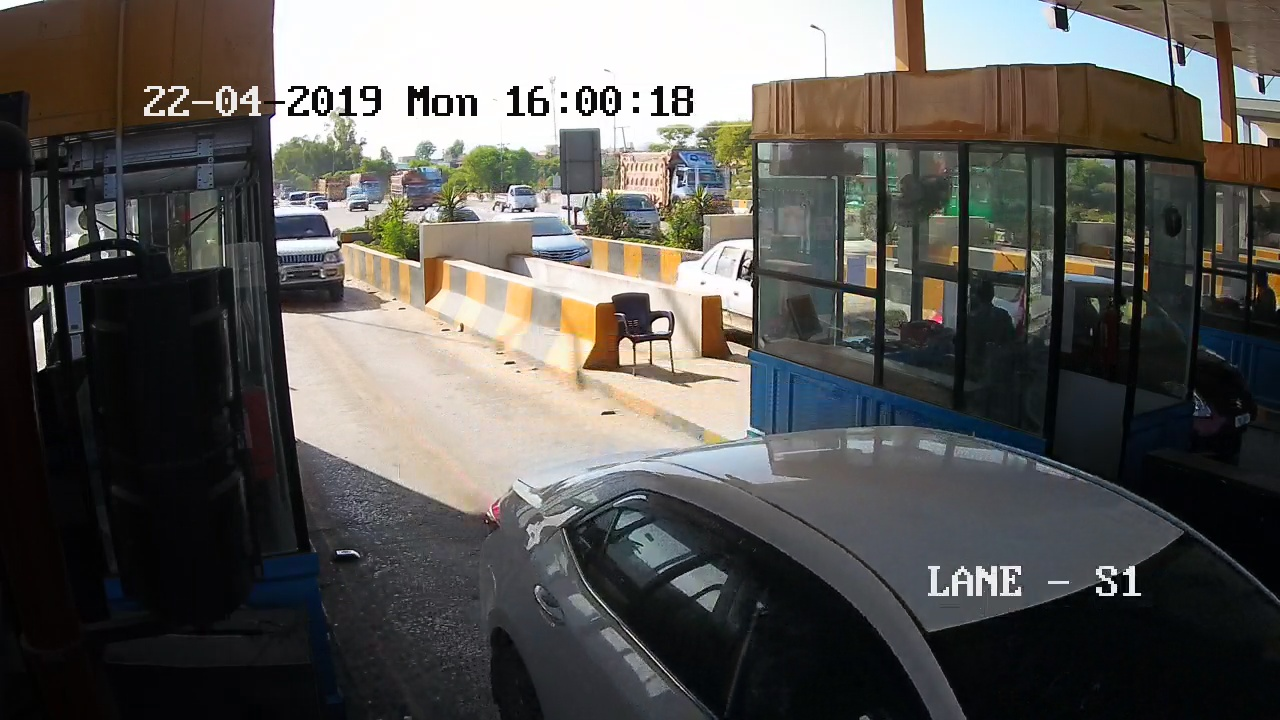car: (479, 409, 1256, 711), (271, 202, 360, 322)
